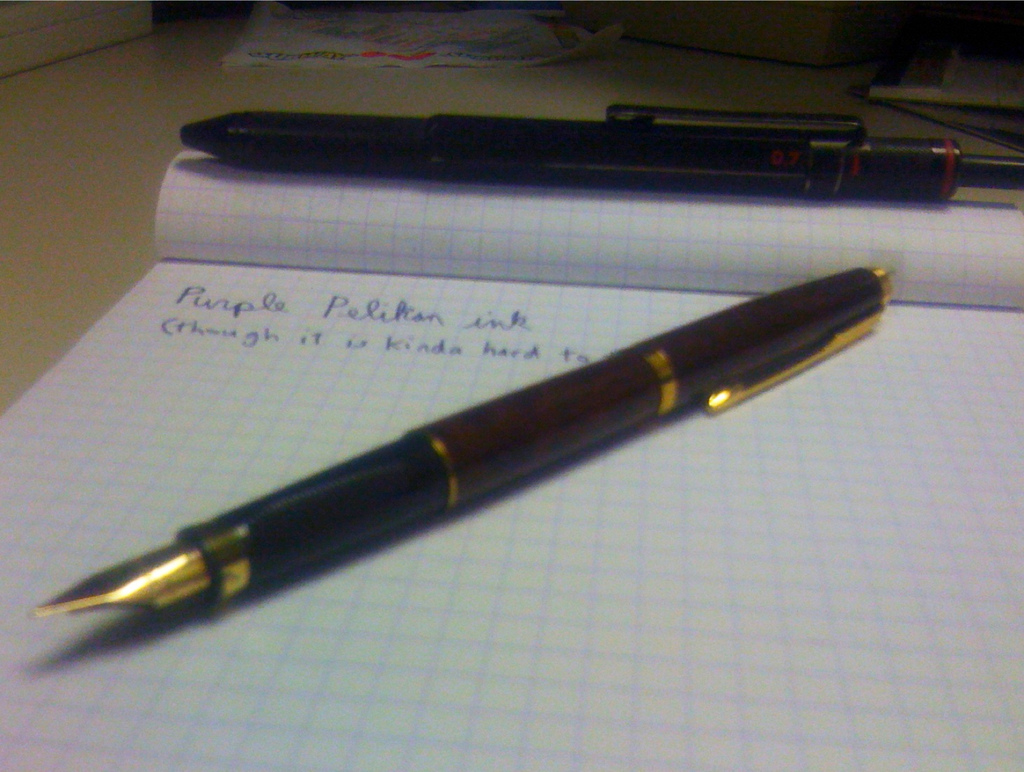Pen: (20, 258, 892, 615)
